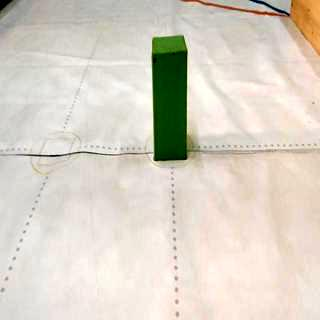greenbox: (152, 34, 188, 163)
